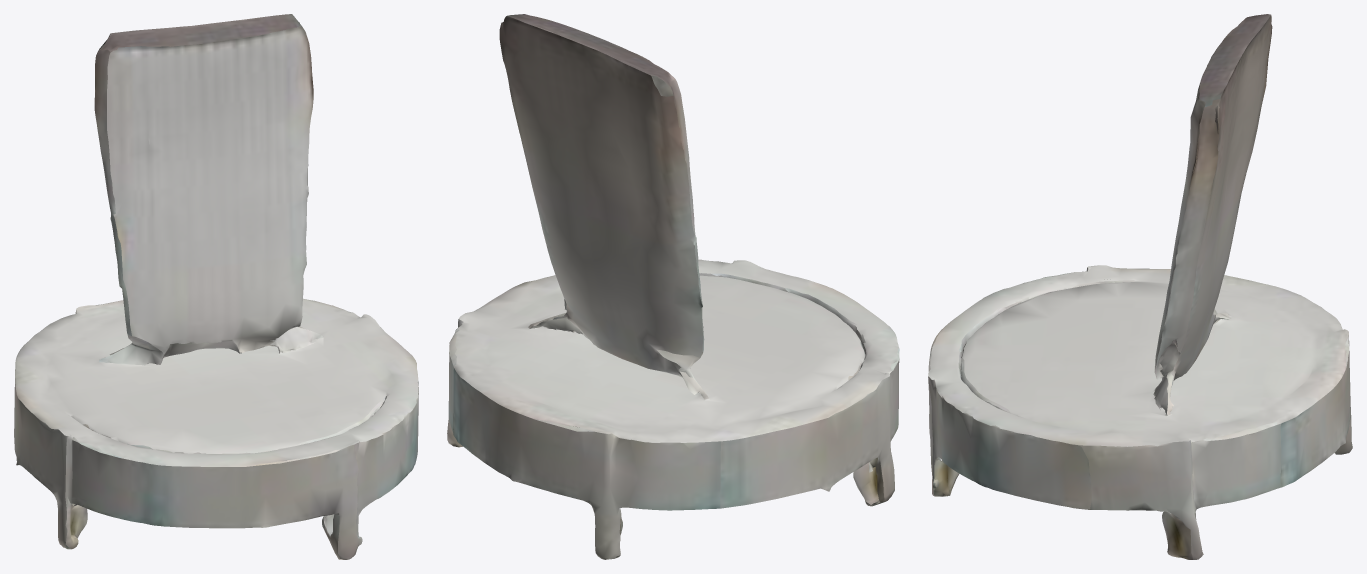
3 renders of one model, left to right at view 1: azimuth 30°, elevation 25°; view 2: azimuth 150°, elevation 25°; view 3: azimuth 270°, elevation 25°, orthographic. The views are drawn at different scales.
Parts seen in each view (by area): view 1: world; view 2: world; view 3: world.
Part boxes in pixels (x1,y1,x2,y2): world: (14, 14, 418, 559); world: (447, 14, 899, 559); world: (928, 14, 1352, 559).
Size of the model in its own units: 0.2627 by 0.2998 by 0.2607.
1 material, 1 textured.
